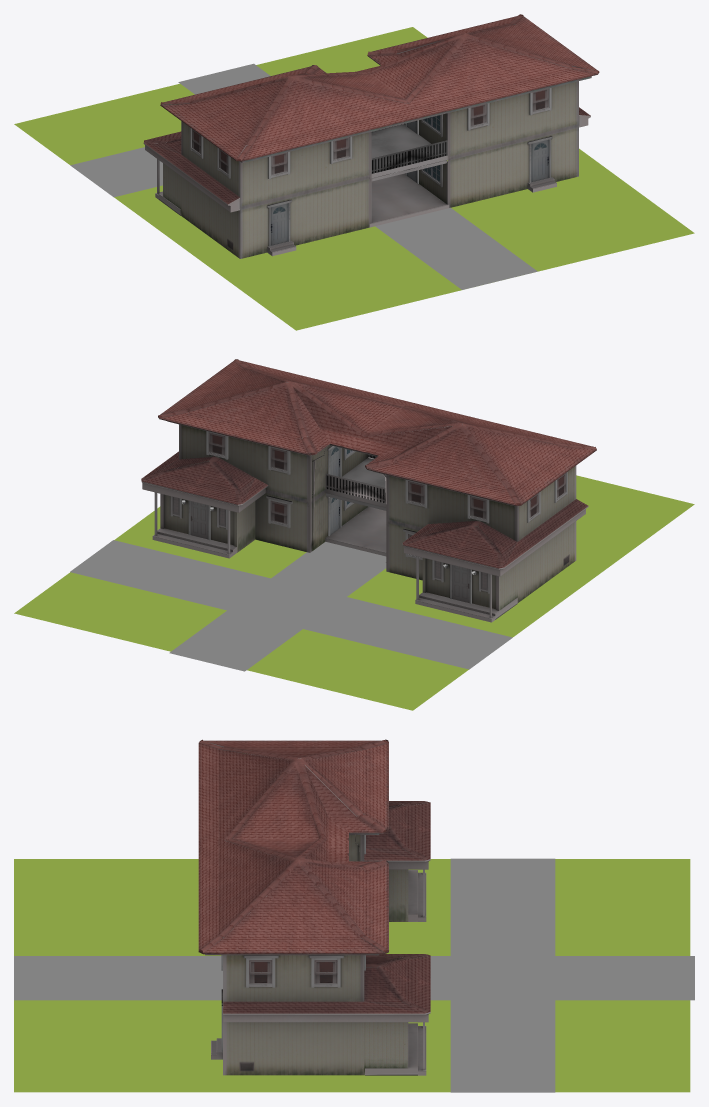
The model's file is building.glb.
The picture shows the model from 3 angles, top to bottom: view 1: azimuth 30°, elevation 25°; view 2: azimuth 150°, elevation 25°; view 3: azimuth 270°, elevation 25°; orthographic projection. The views are drawn at different scales.
Visible parts, largest first — view 1: City_building_026, Plane001, Plane, Plane.001; view 2: City_building_026, Plane001, Plane.001, Plane; view 3: Plane001, City_building_026, Plane.001, Plane.
Part boxes in pixels (x1=…): City_building_026: x1=143, y1=14, x2=599, y2=258; Plane001: x1=14, y1=27, x2=694, y2=330; Plane: x1=178, y1=63, x2=537, y2=289; Plane.001: x1=70, y1=147, x2=162, y2=197; City_building_026: x1=141, y1=359, x2=596, y2=622; Plane001: x1=14, y1=475, x2=694, y2=710; Plane.001: x1=70, y1=540, x2=512, y2=669; Plane: x1=169, y1=541, x2=386, y2=671; Plane001: x1=14, y1=859, x2=690, y2=1092; City_building_026: x1=198, y1=739, x2=430, y2=1075; Plane.001: x1=450, y1=858, x2=555, y2=1092; Plane: x1=14, y1=956, x2=694, y2=1000.
Bounding box in the file's own units: 175 × 58.43 × 215.
4 materials, 1 textured.
